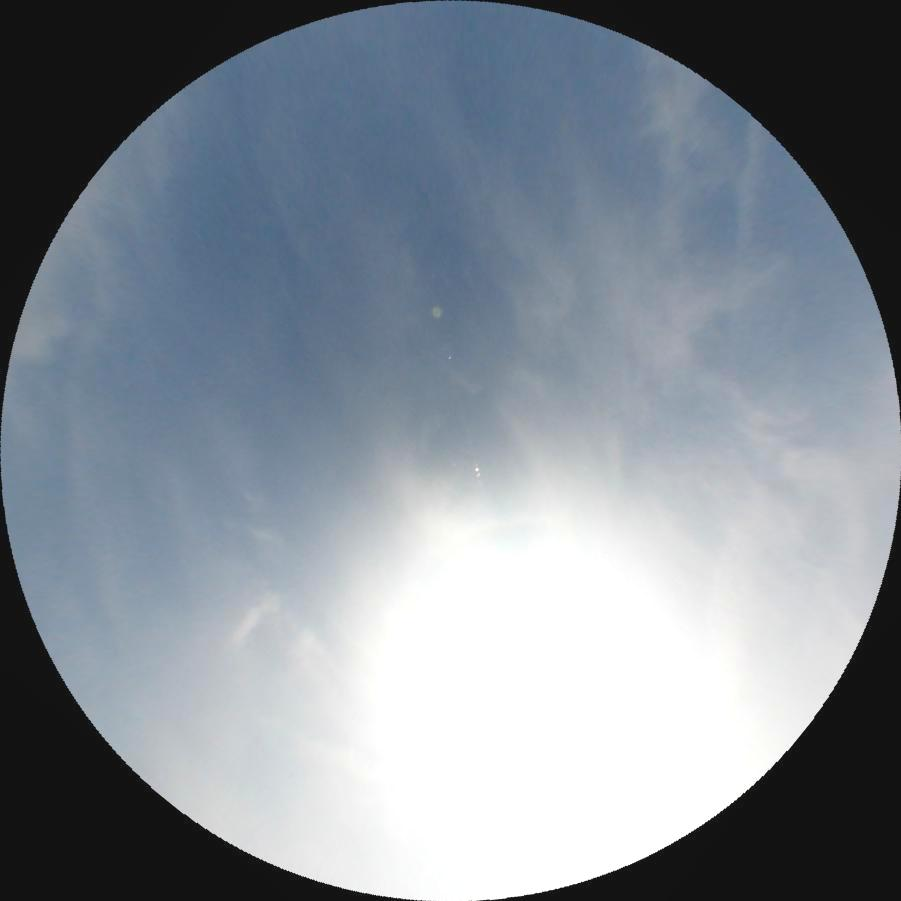contrail veryold: (724, 115, 771, 244)
sun: (437, 545, 703, 822)
